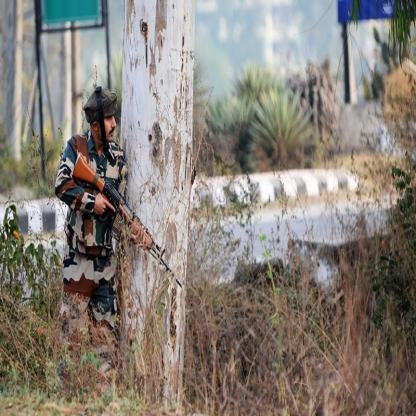Gun: (64, 129, 190, 317)
